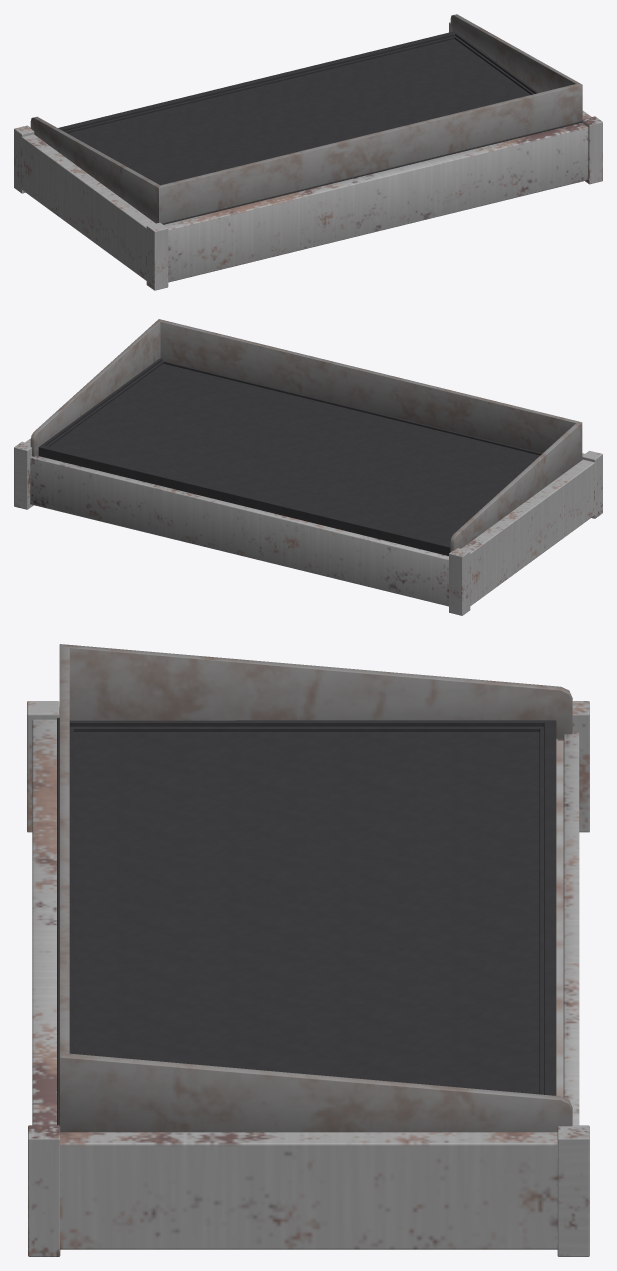
The model's file is StallProp_B.fbx.
The picture shows the model from 3 angles, top to bottom: view 1: azimuth 30°, elevation 25°; view 2: azimuth 150°, elevation 25°; view 3: azimuth 270°, elevation 25°; orthographic projection. The views are drawn at different scales.
Parts seen in each view (by area): view 1: StallProp_B; view 2: StallProp_B; view 3: StallProp_B.
Boxes of the visible parts, left/top/right/bottom form: StallProp_B: left=14, top=14, right=602, bottom=290; StallProp_B: left=14, top=319, right=602, bottom=615; StallProp_B: left=27, top=644, right=589, bottom=1256.
Size of the model in its own units: 1.64 by 0.3284 by 0.8919.
